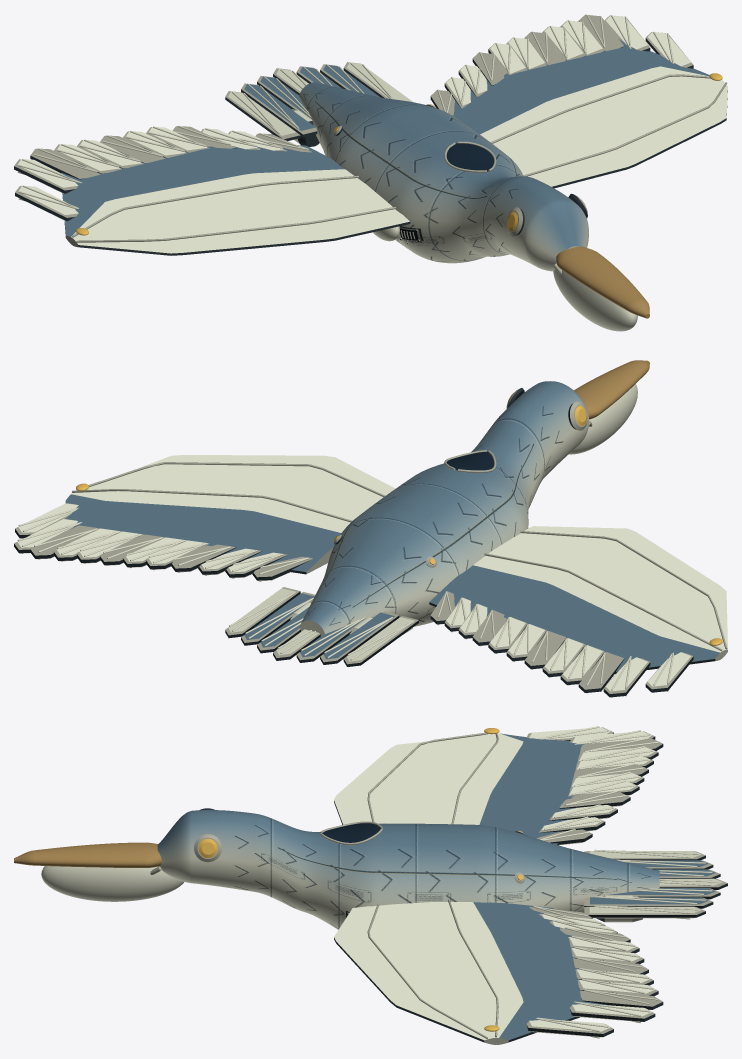
File: ship.glb
The picture shows the model from 3 angles, top to bottom: view 1: azimuth 30°, elevation 25°; view 2: azimuth 150°, elevation 25°; view 3: azimuth 270°, elevation 25°; orthographic projection. The views are drawn at different scales.
Visible parts, largest first — view 1: pelican_hull; view 2: pelican_hull; view 3: pelican_hull.
Part boxes in pixels (box(x1,y1,x2,y2)): pelican_hull: box(14, 14, 727, 331); pelican_hull: box(14, 360, 727, 697); pelican_hull: box(14, 726, 727, 1044).
Size of the model in its own units: 256 by 48.56 by 252.
1 material, 1 textured.
